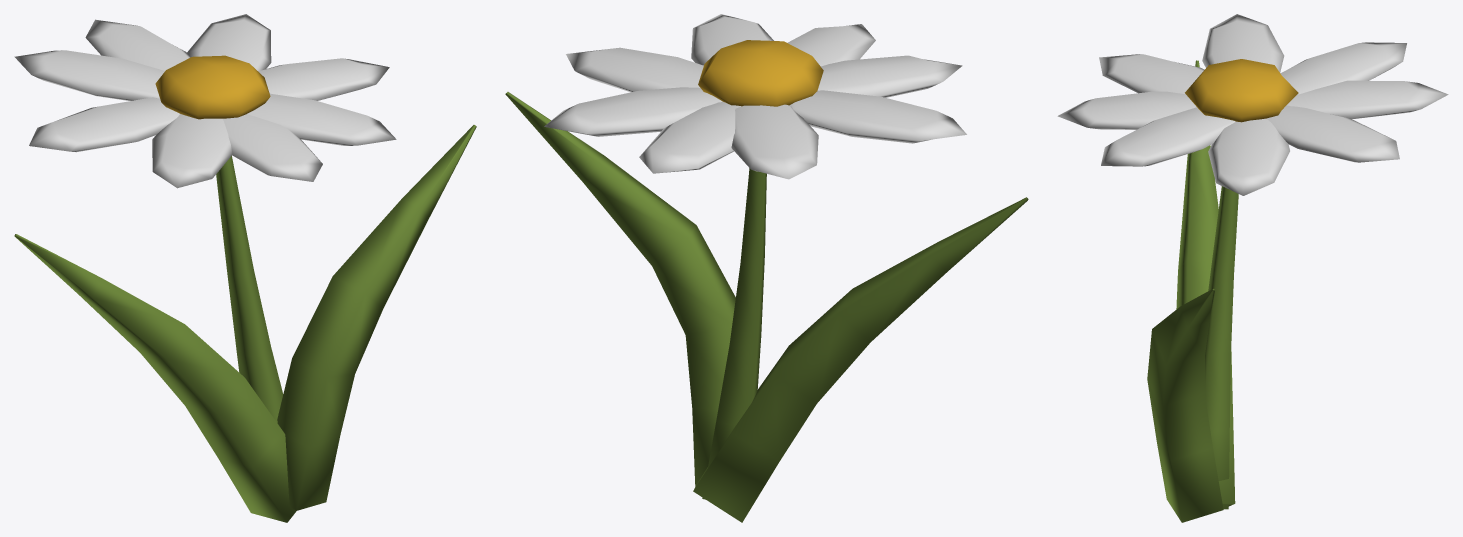
File: flower_1.fbx
3 views of the same model, side by side, from view 1: azimuth 30°, elevation 25°; view 2: azimuth 150°, elevation 25°; view 3: azimuth 270°, elevation 25° (orthographic). The views are drawn at different scales.
Visible parts, largest first — view 1: Tube; view 2: Tube; view 3: Tube.
Part boxes in pixels (x1,y1,x2,y2): Tube: (14, 14, 476, 522); Tube: (505, 14, 1028, 522); Tube: (1057, 14, 1448, 522).
Size of the model in its own units: 3.9 by 3.54 by 2.94.
